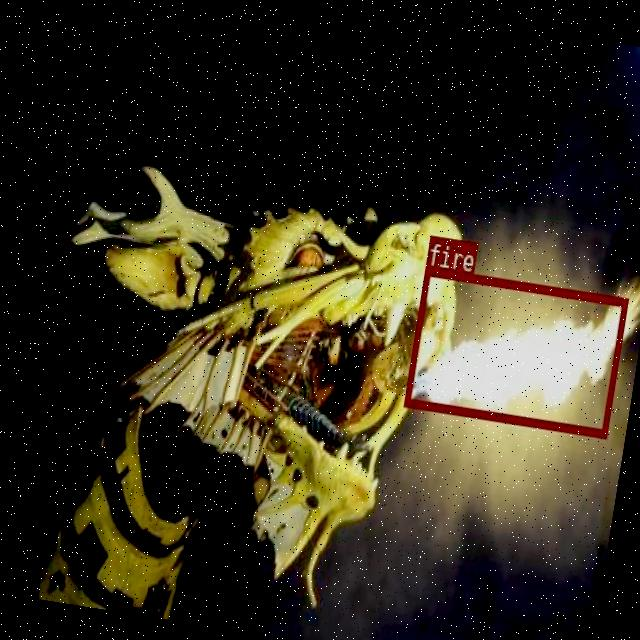fire: (402, 265, 628, 437)
